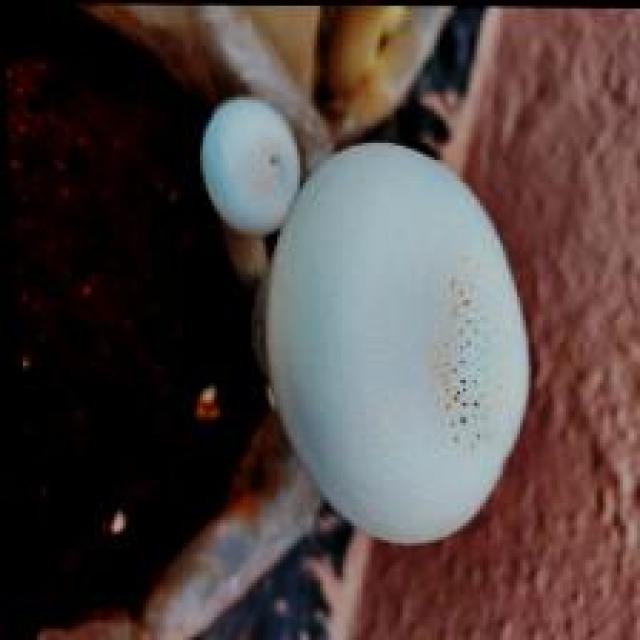death-cap: (257, 137, 534, 546)
